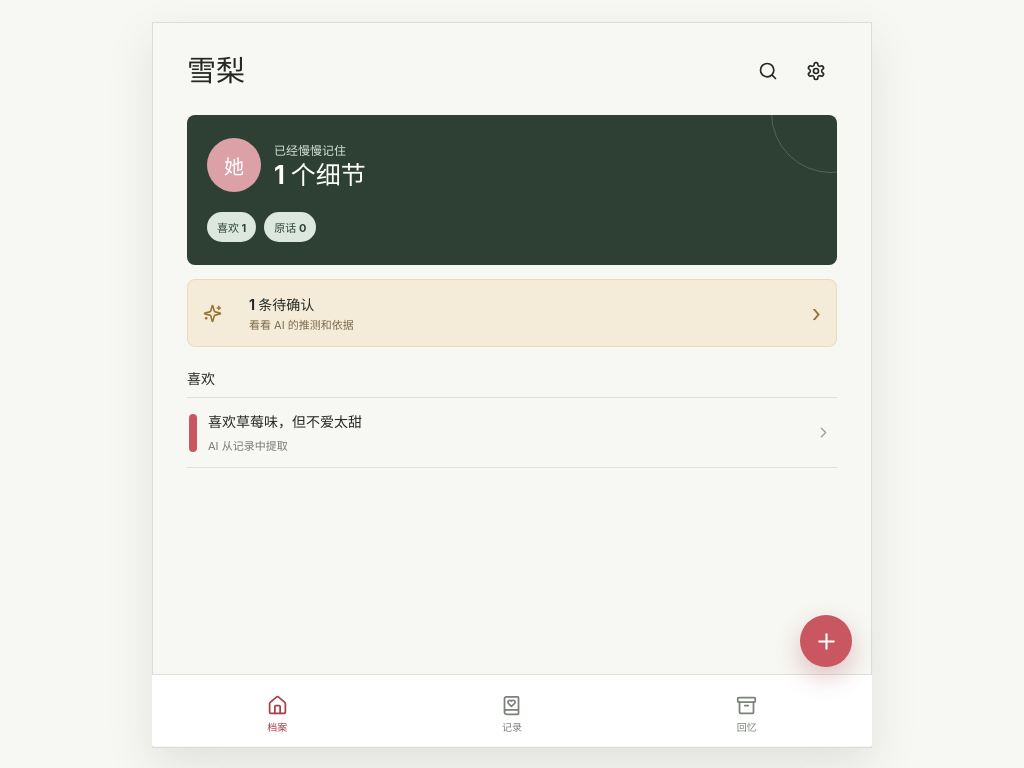
Test: App › 设置页说明当前使用邮箱链接登录
The width and height of the screenshot is (1024, 768).
Step 1. Click the button named "设置" → (816, 71), box x1=795 y1=50 x2=837 y2=92
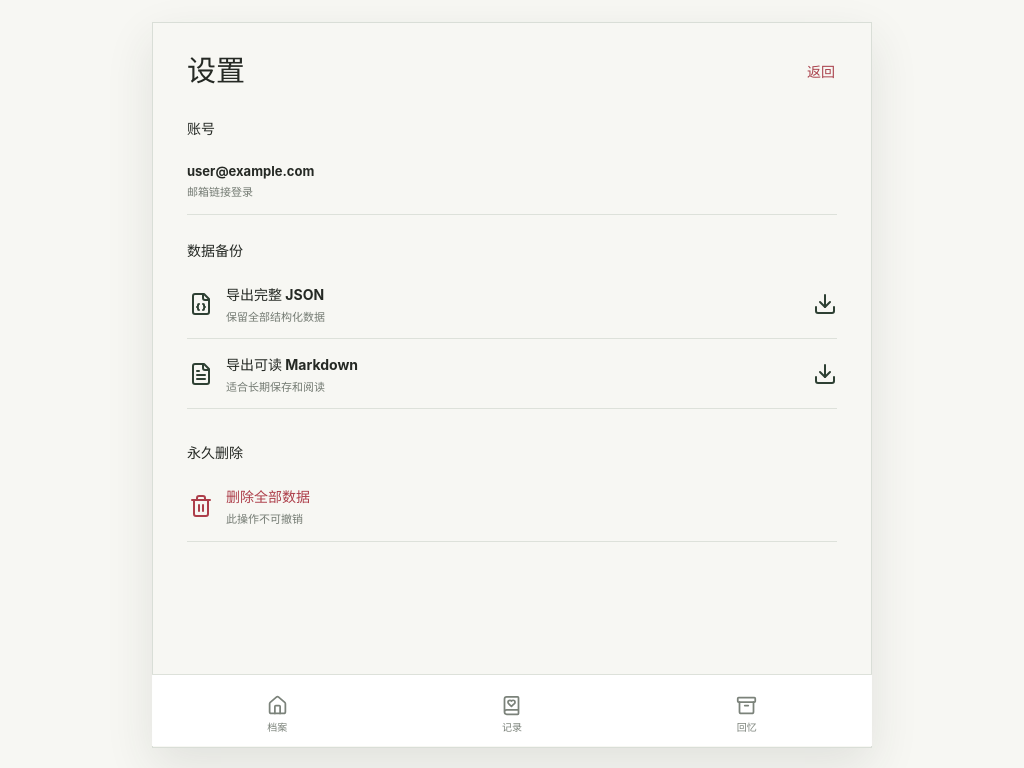
Result: the text "邮箱链接登录" is shown at x1=187 y1=185 x2=253 y2=199
